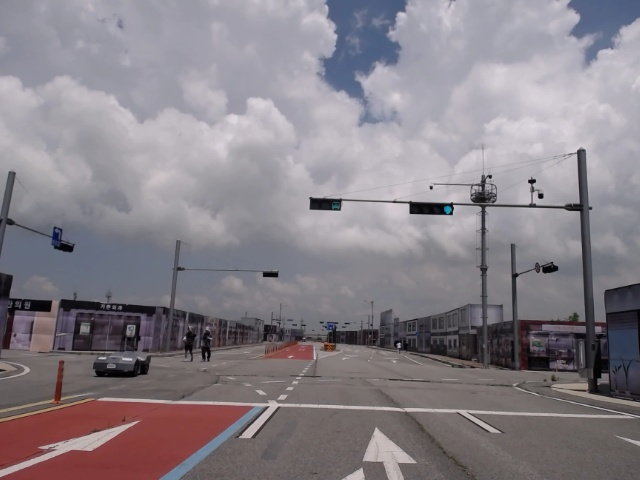straight_green_4: (409, 202, 455, 215)
